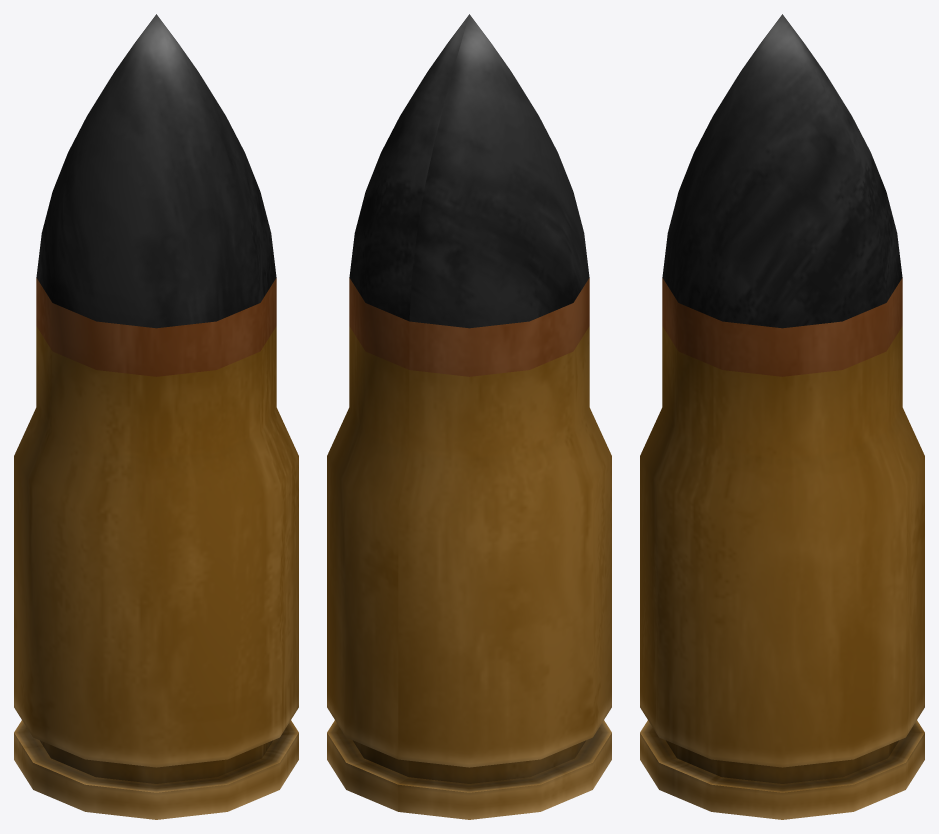
The model's file is MediumTank_Gear_Shell_04.FBX.
3 views of the same model, side by side, from view 1: azimuth 30°, elevation 25°; view 2: azimuth 150°, elevation 25°; view 3: azimuth 270°, elevation 25° (orthographic).
Visible parts, largest first — view 1: MediumTank_Gear_Shell_04; view 2: MediumTank_Gear_Shell_04; view 3: MediumTank_Gear_Shell_04.
Part boxes in pixels (bbox=[...]): MediumTank_Gear_Shell_04: bbox=[14, 14, 298, 819]; MediumTank_Gear_Shell_04: bbox=[327, 14, 611, 819]; MediumTank_Gear_Shell_04: bbox=[640, 14, 924, 819].
Bounding box in the file's own units: 0.2641 × 0.7626 × 0.2641.
